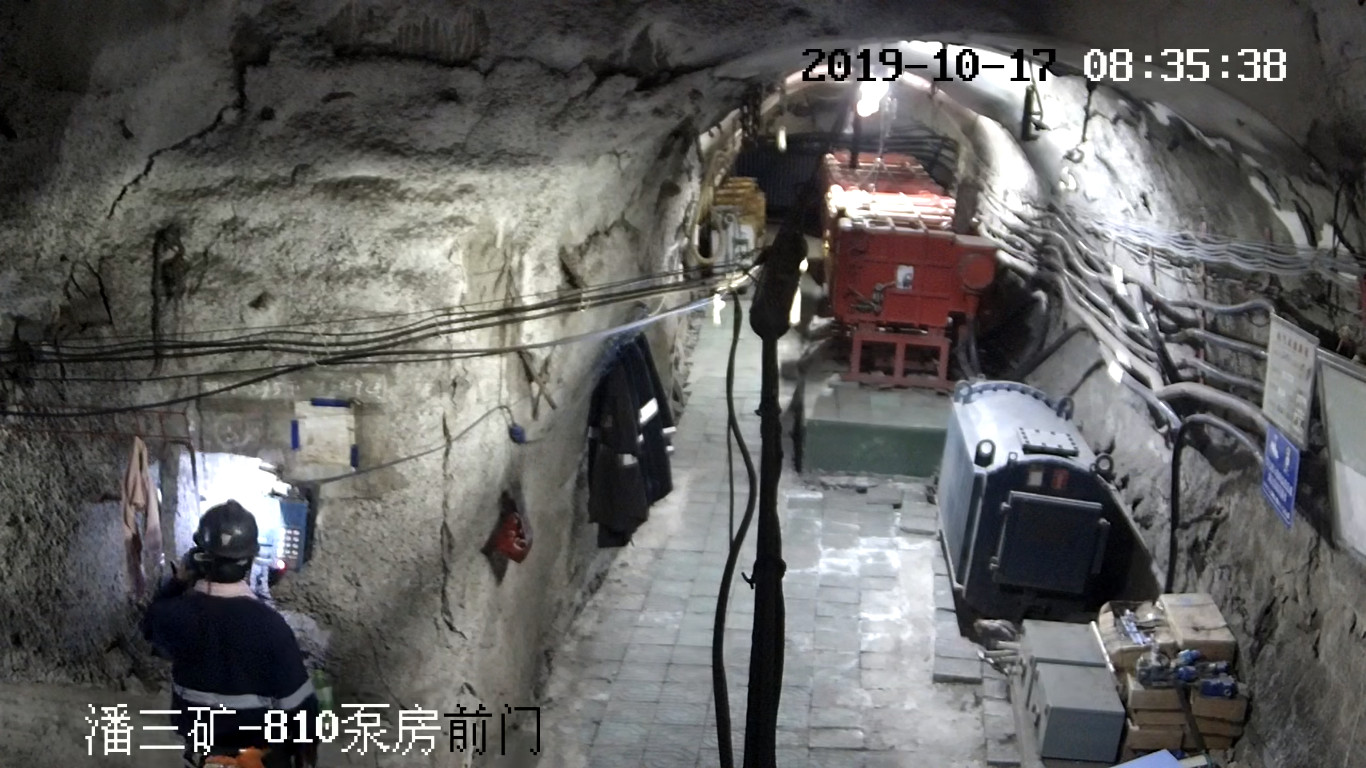helmet: (193, 497, 258, 558)
